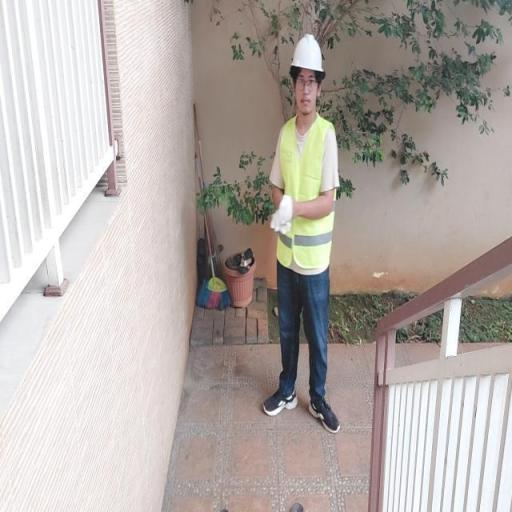Person: (224, 16, 379, 439)
gloves: (266, 190, 292, 238), (270, 187, 296, 231)
helmet: (285, 31, 329, 75)
vest: (271, 109, 339, 279)
